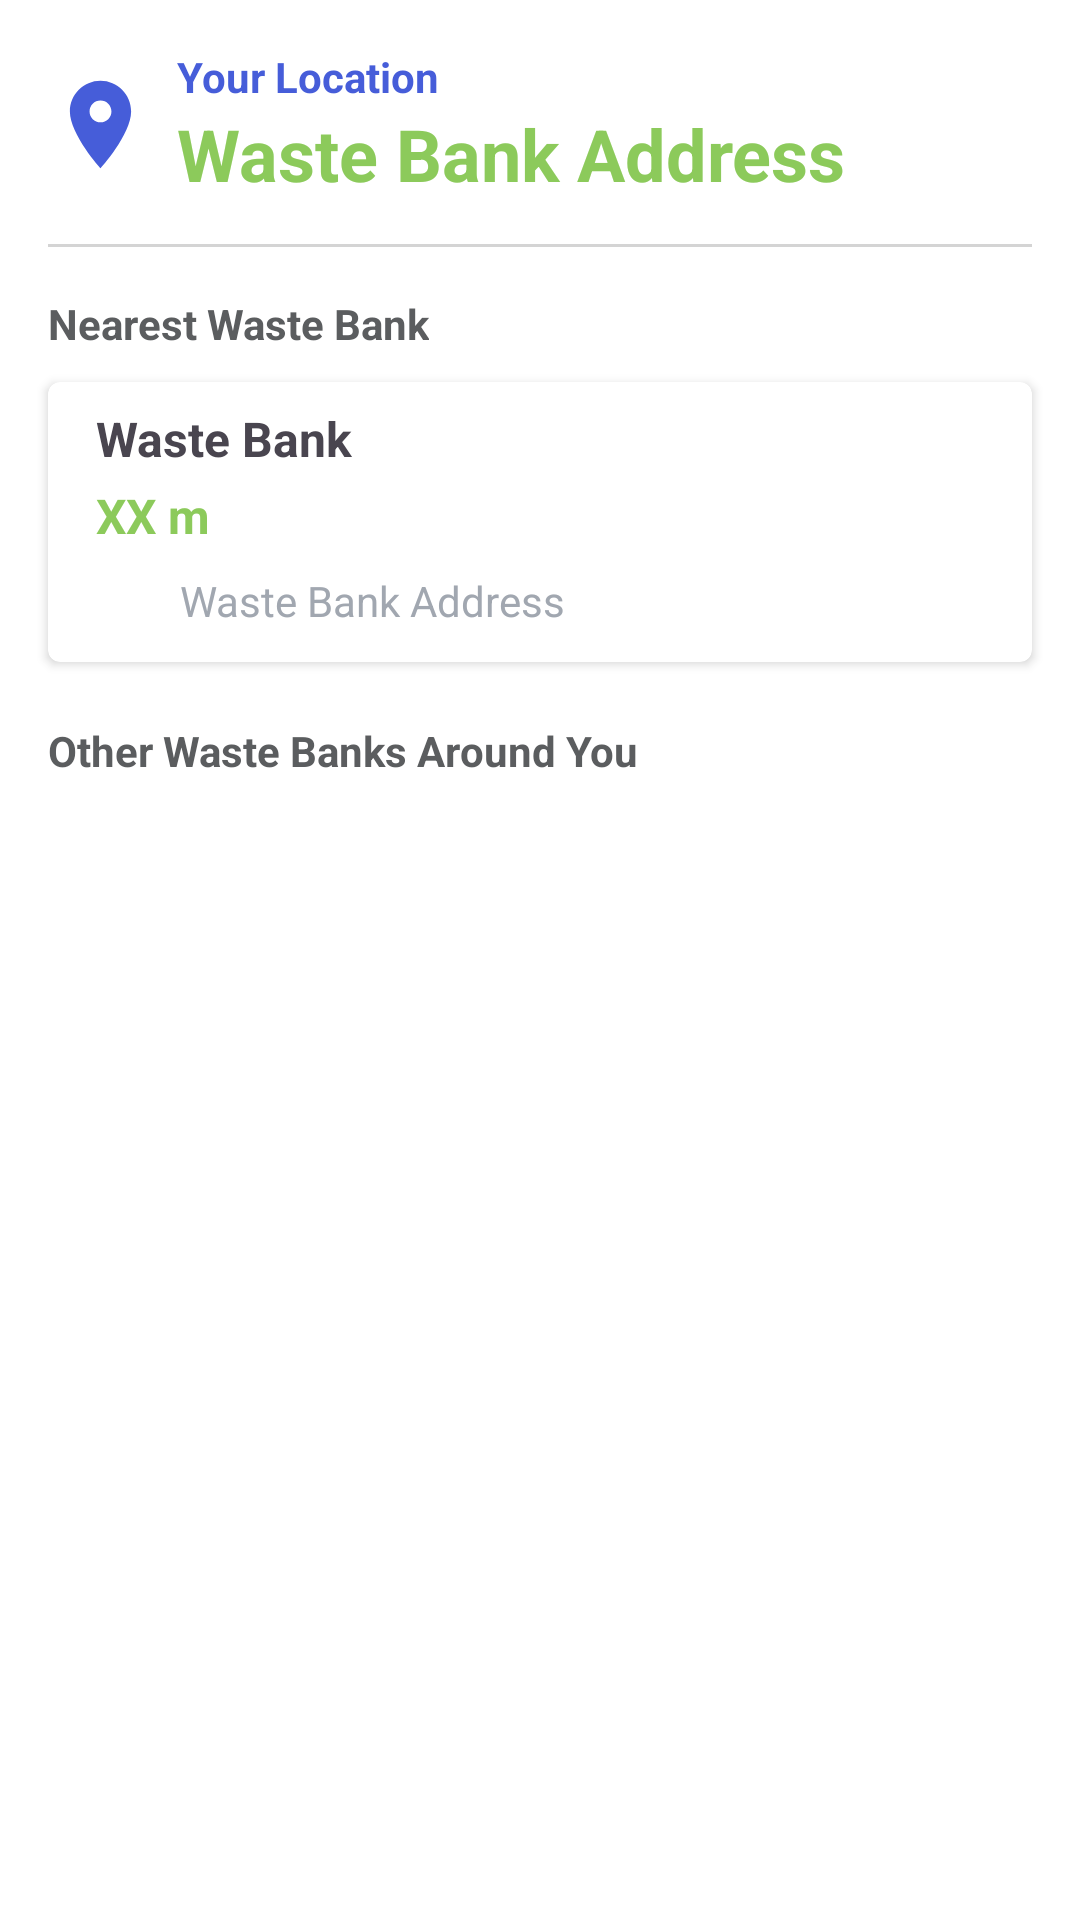

Point at icon controls on the screen. Image size 1080x1920, points as (x,y).
Location Now: (100,124)
